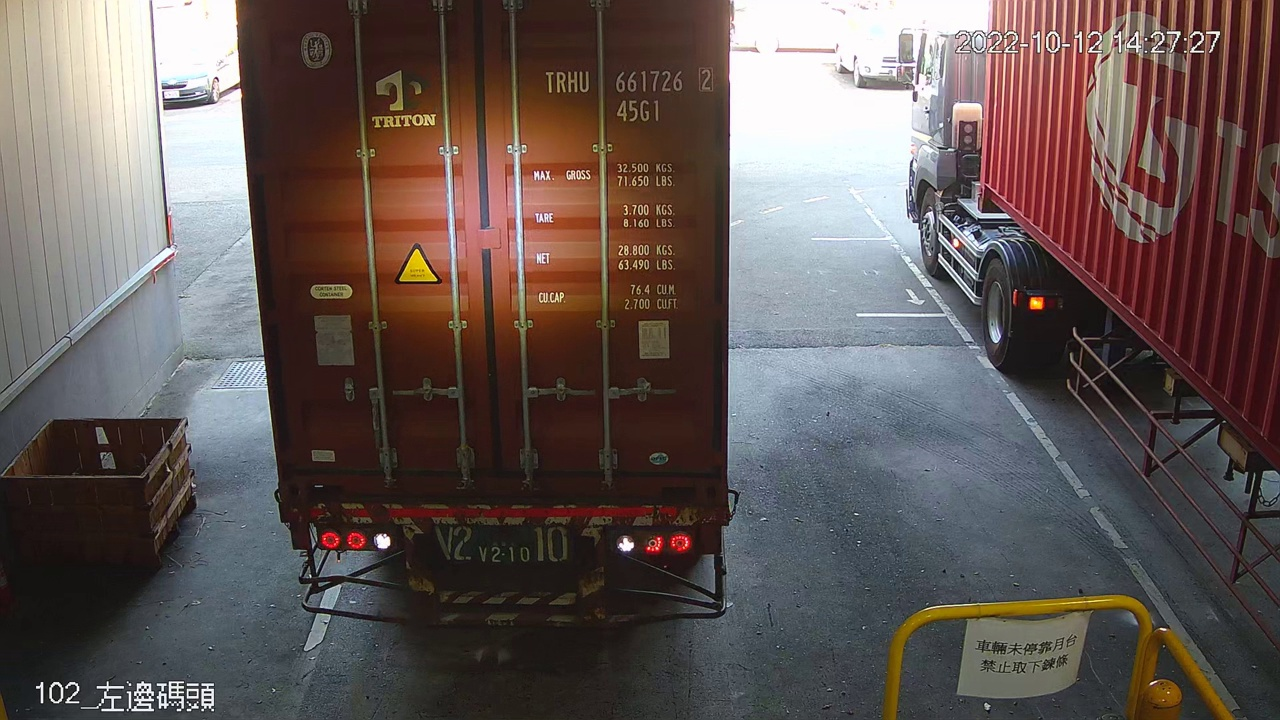container: (537, 61, 720, 129)
